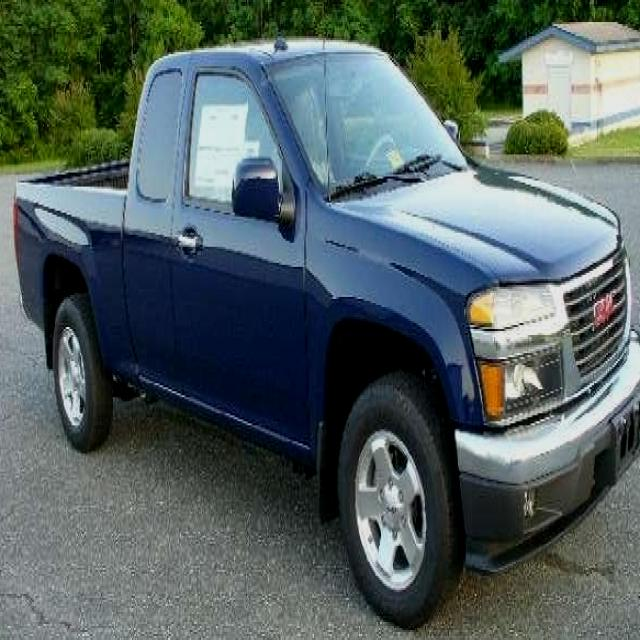CMT: (25, 39, 640, 628)
